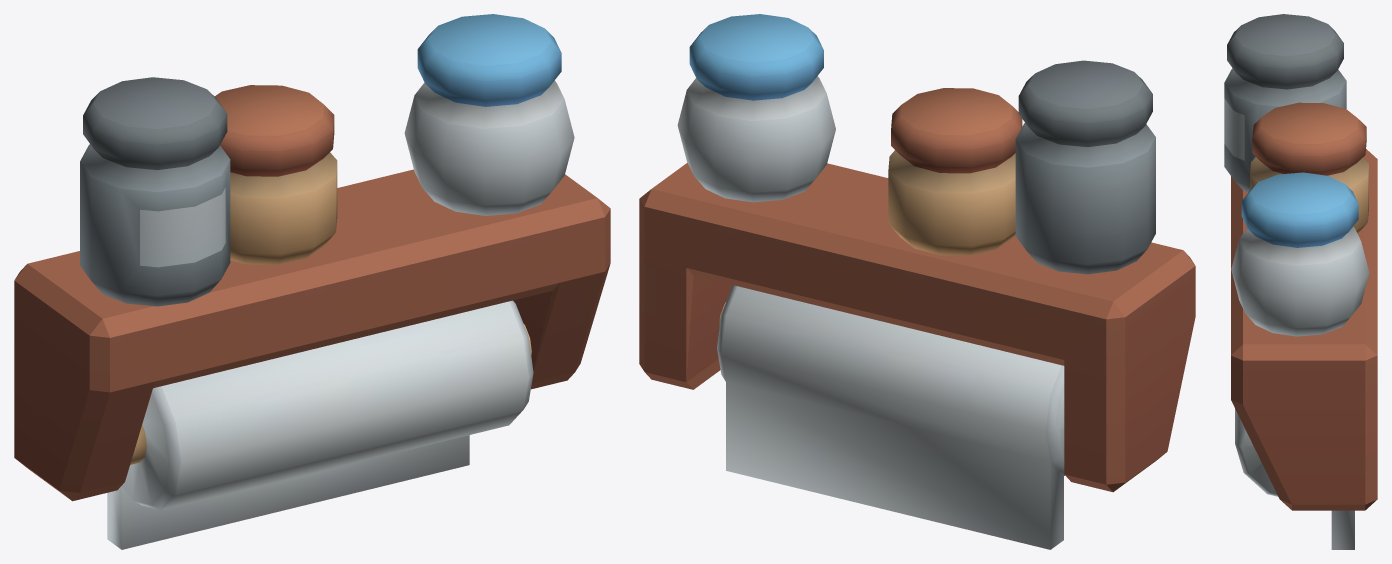
Rendered from shelf-papertowel-decorated.glb.
The picture shows the model from 3 angles, left to right: view 1: azimuth 30°, elevation 25°; view 2: azimuth 150°, elevation 25°; view 3: azimuth 270°, elevation 25°; orthographic projection. The views are drawn at different scales.
Visible parts, largest first — view 1: shelf_papertowel_decorated; view 2: shelf_papertowel_decorated; view 3: shelf_papertowel_decorated.
Boxes of the visible parts, box(x1,y1,x2,y2) form: shelf_papertowel_decorated: box(14, 14, 610, 549); shelf_papertowel_decorated: box(639, 14, 1195, 549); shelf_papertowel_decorated: box(1224, 14, 1377, 549).
Size of the model in its own units: 2 by 1.71 by 0.6263.
Materials: 1 (1 with a texture image).
